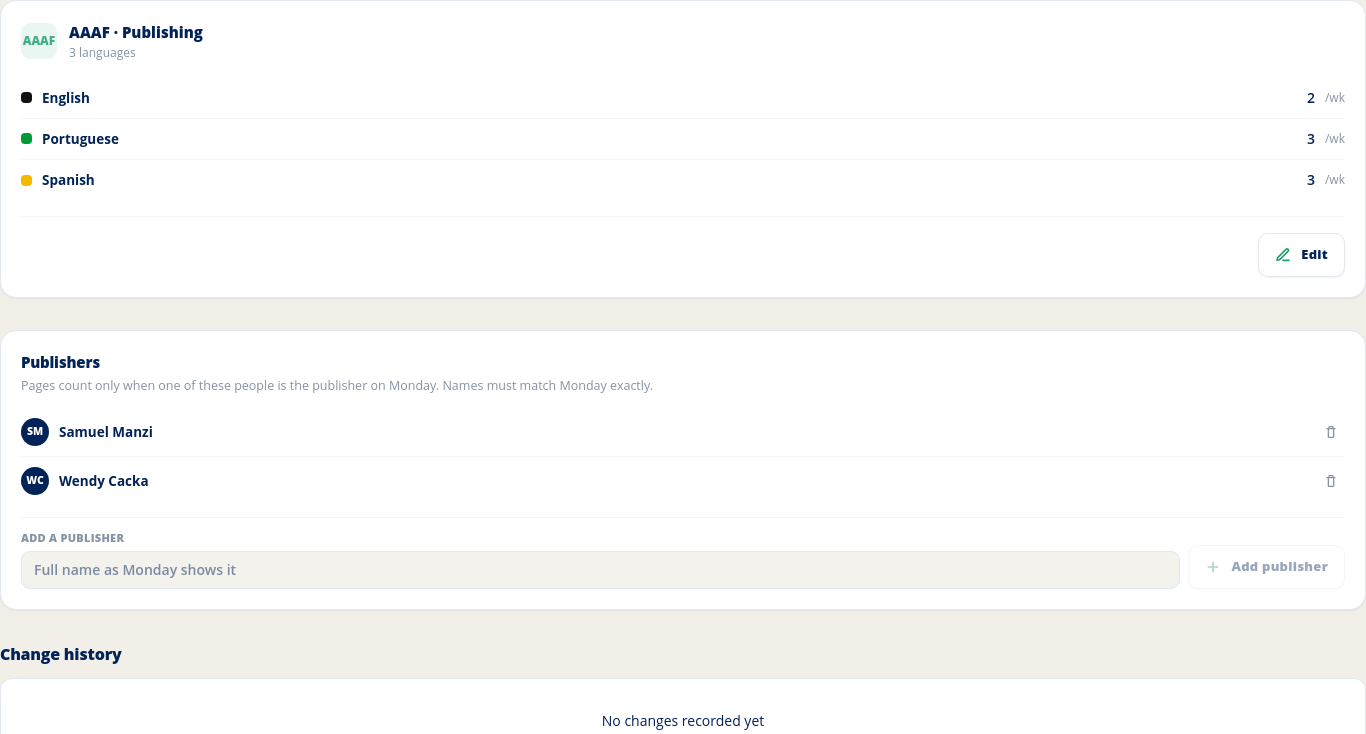
TargetsEditor (audit, 10 October 2026) › refuses a target that is not a whole number before sending anything
Click the button "Edit": [1302, 255] box [1258, 233, 1345, 277]
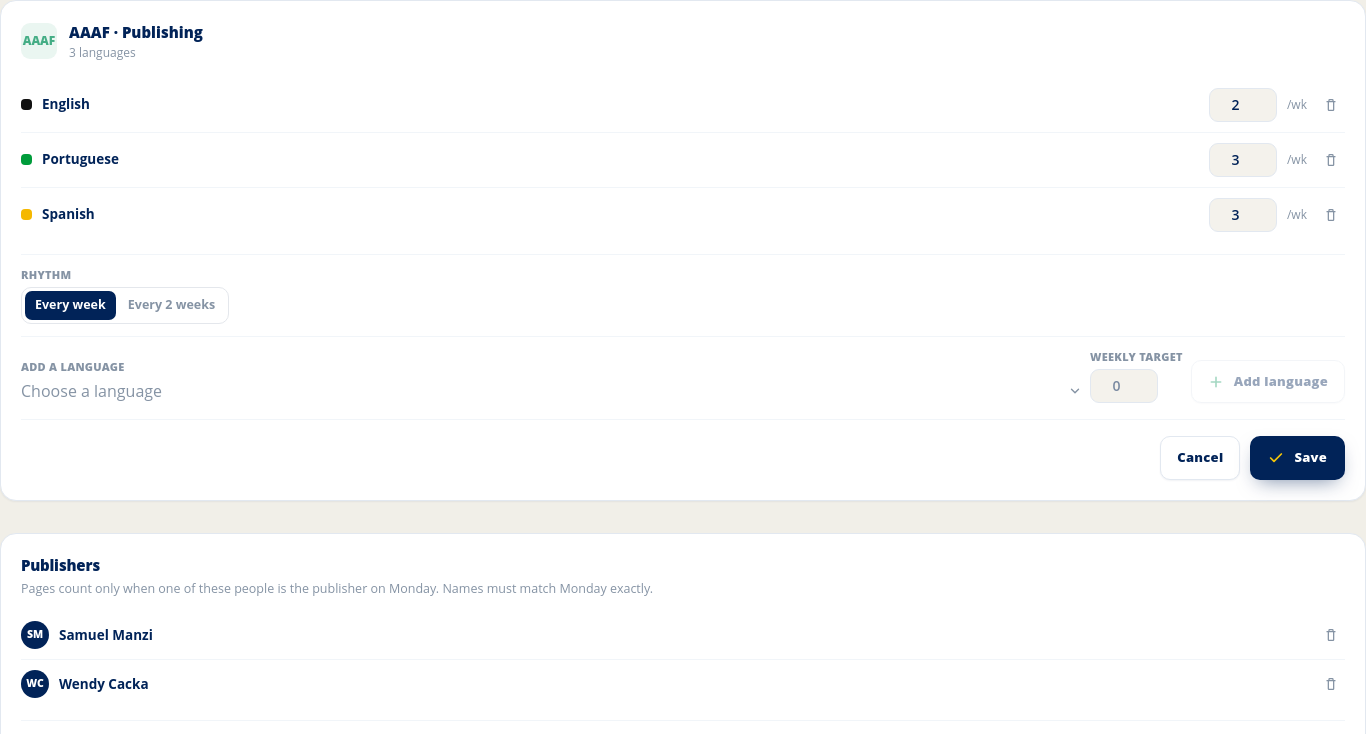
Replace the text in the number field named "English weekly target" with "2.5": [1243, 104] box [1209, 88, 1277, 122]
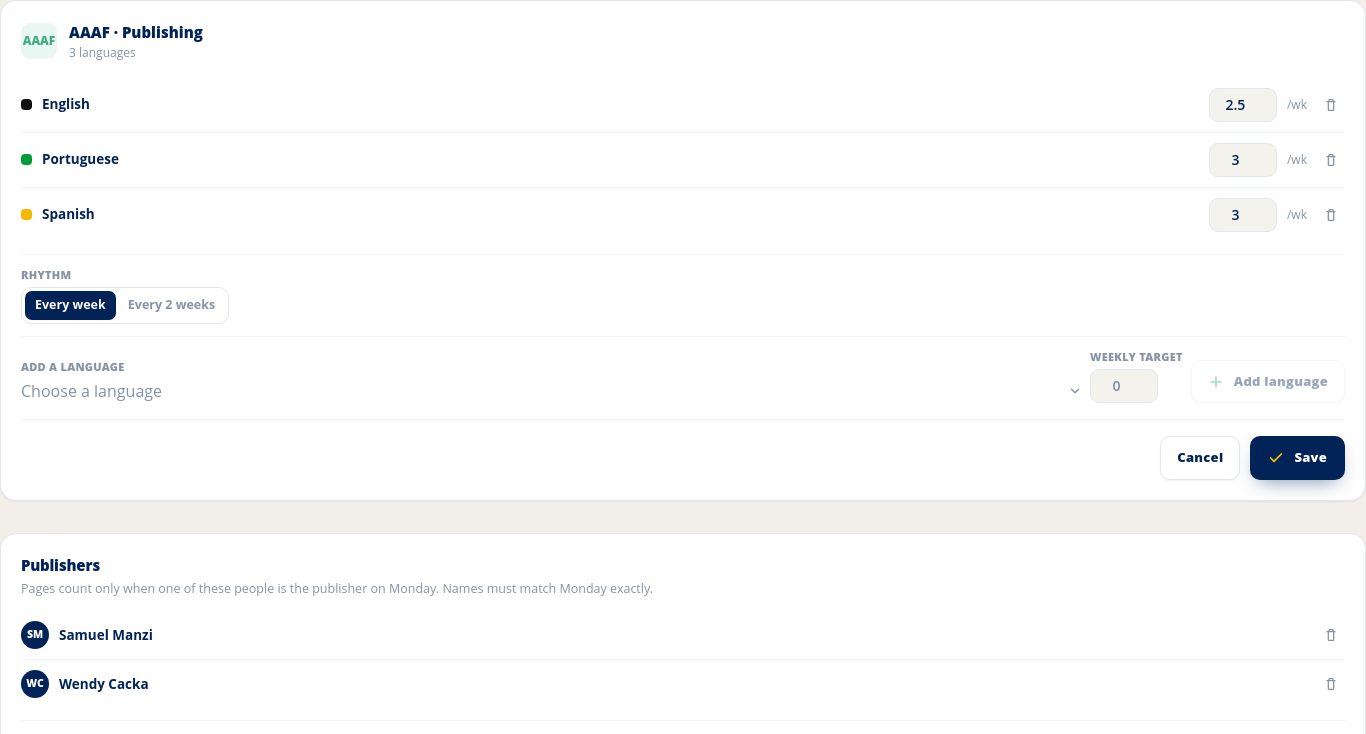
Click the button "Save": [1298, 458] box [1250, 436, 1345, 480]
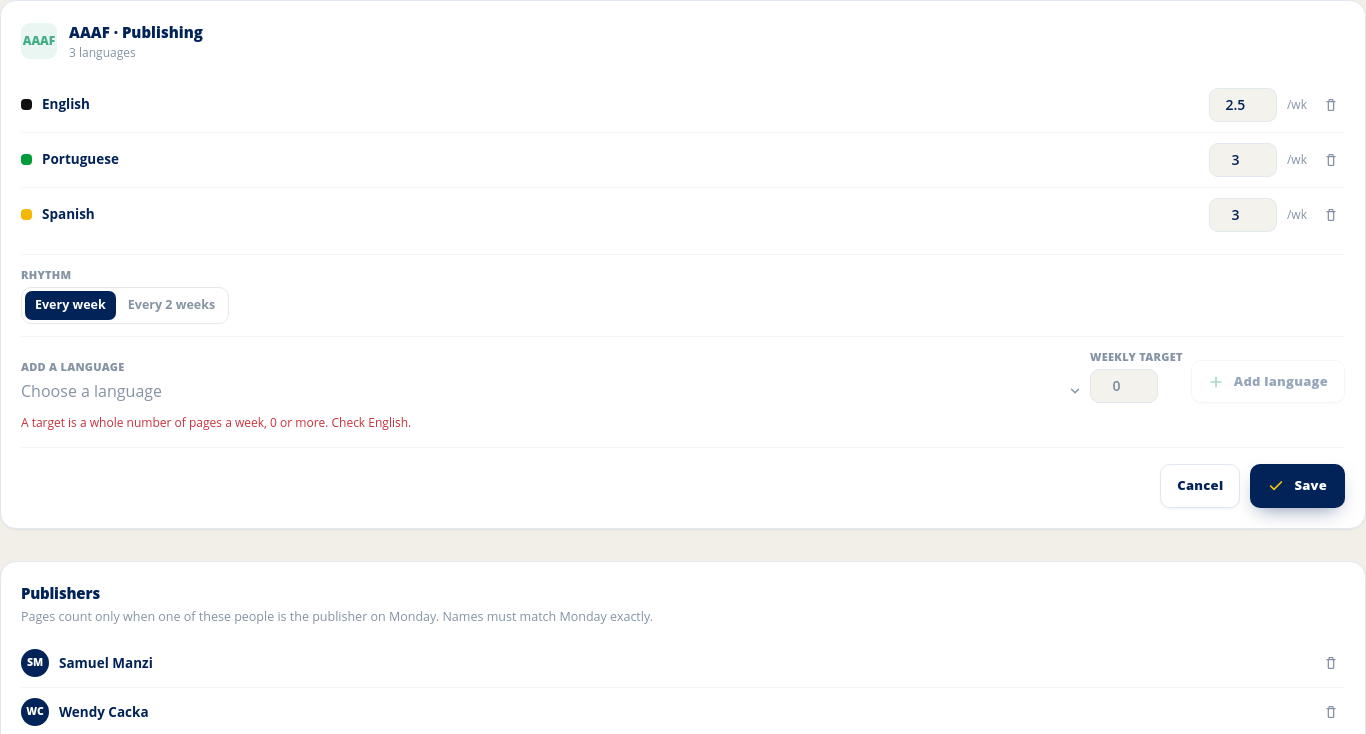
Expected: the message reads "A target is a whole number of pages a week, 0 or more. Check English.", [21, 414, 411, 431]
